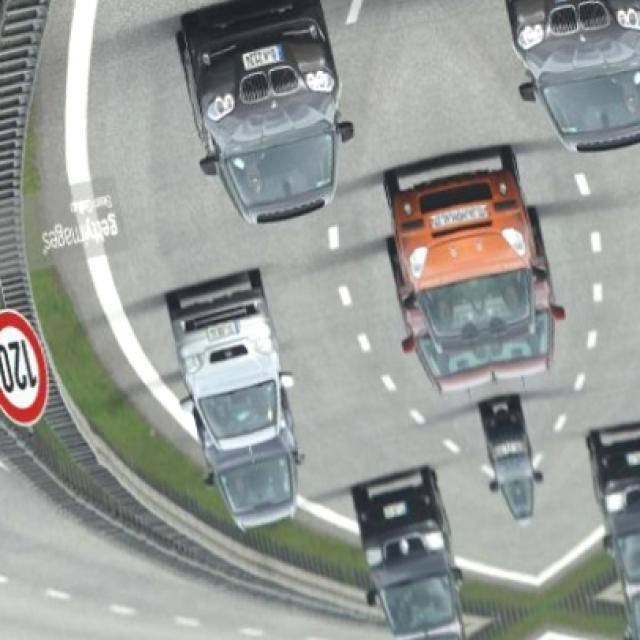forb_speed_over_120: (0, 305, 57, 431)
